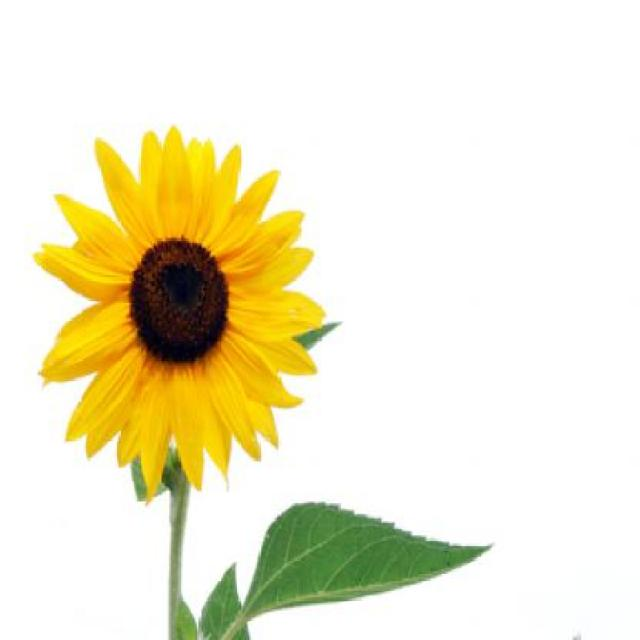sunflower: (32, 123, 342, 506)
